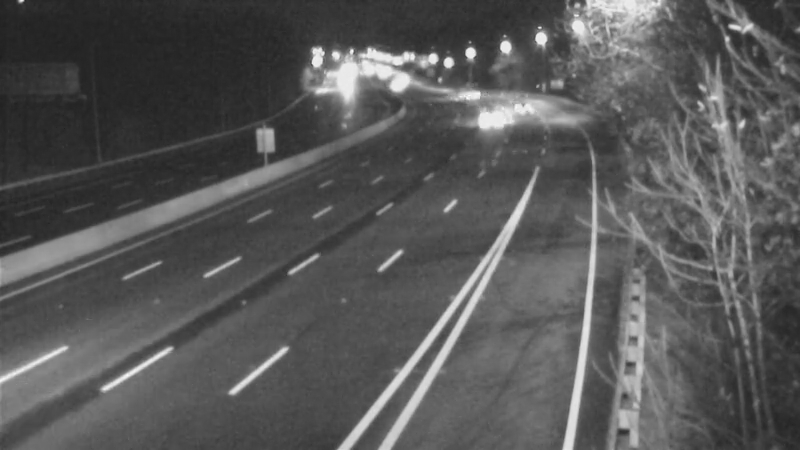vehicle: (440, 66, 490, 116), (501, 87, 551, 137), (461, 91, 511, 141)
